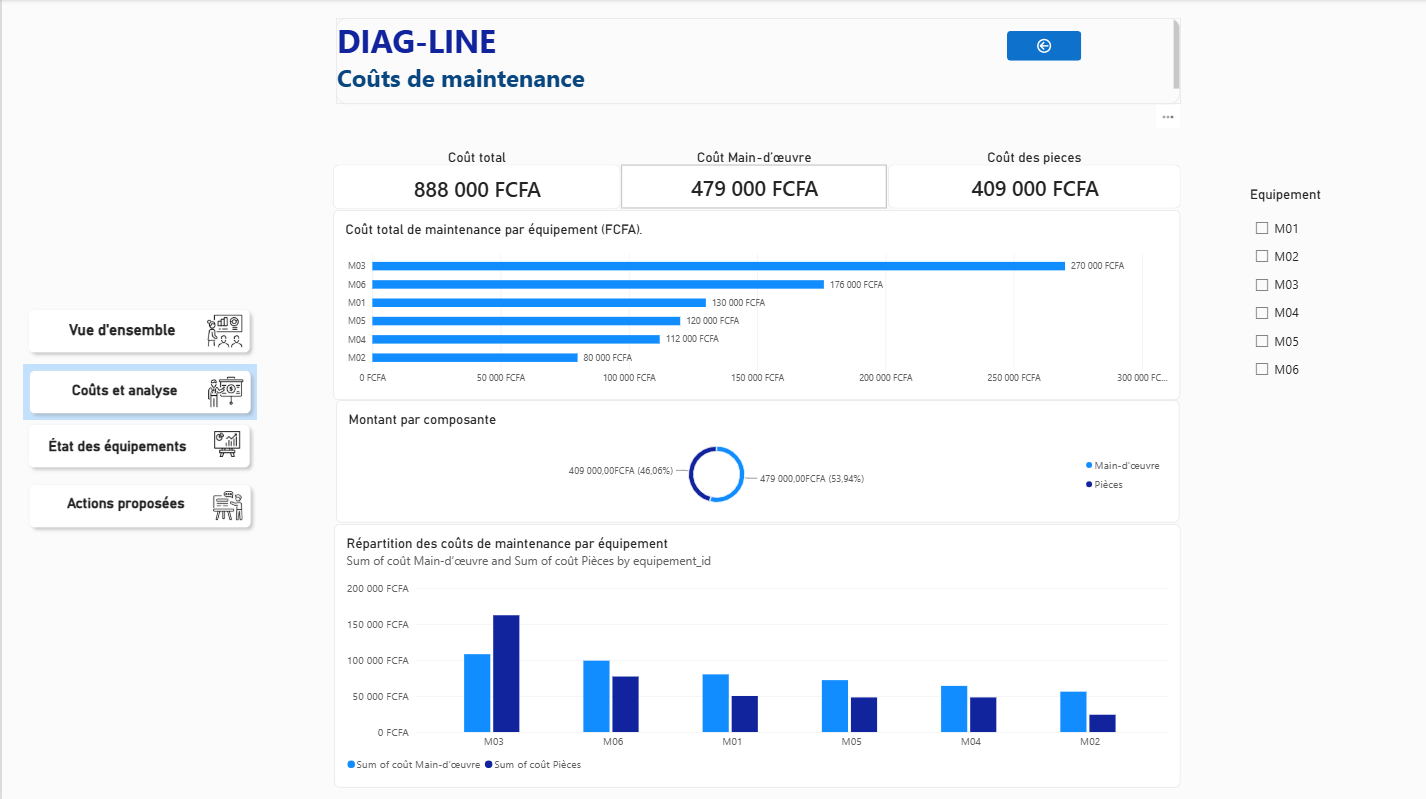

What the dashboard file says about the page in this screenshot:
{"tool":"powerbi","page":{"name":"02 - Coûts et analyse maintenance","canvas":[1920,1080],"ordinal":1},"visuals":[{"type":"textbox","box":[450,25.7,1137.1,115.7],"z":0},{"type":"group","id":"g1","title":"Group 4","box":[26.7,564.4,315.7,75.7],"z":0,"group":"g6"},{"type":"clusteredColumnChart","title":"Répartition des coûts de maintenance par équipement ","fields":{"Category":["maintenance_simulee.equipement_id"],"Y":["Sum(maintenance_simulee.cout_main_oeuvre_fcfa)","Sum(maintenance_simulee.cout_pieces_fcfa)"]},"box":[447,706.3,1139.6,355.1],"z":0,"group":"g3"},{"type":"actionButton","box":[1352.9,42.9,100,40],"z":1000},{"type":"group","id":"g2","title":"Group 1","box":[27,410,315.7,75.7],"z":1000,"group":"g7"},{"type":"actionButton","title":" État des équipements ","box":[56.8,591.4,197.8,26.7],"z":1000,"group":"g6"},{"type":"slicer","title":"Equipement","fields":{"Values":["maintenance_simulee.equipement_id"]},"box":[1680,251.4,100,267.5],"z":2000},{"type":"actionButton","title":"Vue d''ensemble","box":[90,434.4,164.4,25.6],"z":2000,"group":"g7"},{"type":"shape","box":[26.7,564.4,315.7,75.7],"z":2000,"group":"g1"},{"type":"group","id":"g3","title":"Group 1","box":[445.7,201.4,1141.4,860],"z":3000},{"type":"cardVisual","title":"Coût Main-d’œuvre","fields":{"Data":["Sum(maintenance_simulee.cout_main_oeuvre_fcfa)"]},"box":[834.1,201.4,358.8,80],"z":3000,"group":"g3"},{"type":"shape","box":[27,410,315.7,75.7],"z":3000,"group":"g2"},{"type":"shape","box":[27.8,491.1,315.7,75.7],"z":3000,"group":"g8"},{"type":"group","id":"g4","title":"Group 6","box":[27.8,491.1,315.7,75.7],"z":3001},{"type":"group","id":"g5","title":"Group 3","box":[27.8,645.6,315.7,75.7],"z":3002},{"type":"group","id":"g6","title":"Group 5","box":[26.7,564.4,315.6,75.6],"z":3003},{"type":"group","id":"g7","title":"Group 7","box":[27,410,315.7,75.7],"z":3004},{"type":"cardVisual","title":"Coût total","fields":{"Data":["maintenance_simulee.Coût total de maintenance (FCFA)"]},"box":[446.3,201.5,387.8,81.6],"z":5000,"group":"g3"},{"type":"cardVisual","title":"Coût des pieces","fields":{"Data":["Sum(maintenance_simulee.cout_pieces_fcfa)"]},"box":[1192.8,201.4,394.1,80],"z":6000,"group":"g3"},{"type":"clusteredBarChart","title":"Coût total de maintenance par équipement (FCFA).","fields":{"Category":["maintenance_simulee.equipement_id"],"Y":["maintenance_simulee.Coût total de maintenance (FCFA)"]},"box":[445.7,283.9,1141.4,256.4],"z":8000,"group":"g3"},{"type":"donutChart","title":"Montant par composante ","fields":{"Category":["CategoriesCouts.Composante"],"Y":["CategoriesCouts.Montant par composante (FCFA)"]},"box":[449.8,539.8,1136,165.1],"z":9000,"group":"g3"},{"type":"shape","box":[27.8,645.6,315.7,75.7],"z":16000,"group":"g9"},{"type":"group","id":"g8","title":"Group 1","box":[27.8,491.1,315.7,75.7],"z":17000,"group":"g4"},{"type":"image","title":" État des équipements ","box":[277.9,582.5,49.2,35.4],"z":17000,"group":"g1"},{"type":"actionButton","title":"  Coûts et analyse ","box":[93.6,515.4,151.1,23.3],"z":19000,"group":"g4"},{"type":"image","title":"Actions proposées ","box":[275.5,660.3,56.2,45.4],"z":19000,"group":"g9"},{"type":"group","id":"g9","title":"Group 2","box":[27.8,645.6,315.7,75.7],"z":20000,"group":"g5"},{"type":"actionButton","title":"Actions proposées ","box":[86.9,668.3,170,28.9],"z":21000,"group":"g5"},{"type":"image","title":" Vue d''ensemble ","box":[272.1,420.8,55.7,54.3],"z":22000,"group":"g2"},{"type":"image","title":" Vue d''ensemble ","box":[272.9,501.9,55.7,54.3],"z":22000,"group":"g8"}]}

Visuals, with their boxes on the page's 1920x1080 design canvas (x1, y1, x2, y2). These are canvas units, not pixel positions in the 1426x799 screenshot, which may show the page scaled, cropped or inside an application window:
textbox: 450:26:1587:141
"Group 4" group: 27:564:342:640
"Répartition des coûts de maintenance par équipement " clusteredColumnChart: 447:706:1587:1061
actionButton: 1353:43:1453:83
"Group 1" group: 27:410:343:486
" État des équipements " actionButton: 57:591:255:618
"Equipement" slicer: 1680:251:1780:519
"Vue d''ensemble" actionButton: 90:434:254:460
shape: 27:564:342:640
"Group 1" group: 446:201:1587:1061
"Coût Main-d’œuvre" cardVisual: 834:201:1193:281
shape: 27:410:343:486
shape: 28:491:344:567
"Group 6" group: 28:491:344:567
"Group 3" group: 28:646:344:721
"Group 5" group: 27:564:342:640
"Group 7" group: 27:410:343:486
"Coût total" cardVisual: 446:202:834:283
"Coût des pieces" cardVisual: 1193:201:1587:281
"Coût total de maintenance par équipement (FCFA)." clusteredBarChart: 446:284:1587:540
"Montant par composante " donutChart: 450:540:1586:705
shape: 28:646:344:721
"Group 1" group: 28:491:344:567
" État des équipements " image: 278:582:327:618
"  Coûts et analyse " actionButton: 94:515:245:539
"Actions proposées " image: 276:660:332:706
"Group 2" group: 28:646:344:721
"Actions proposées " actionButton: 87:668:257:697
" Vue d''ensemble " image: 272:421:328:475
" Vue d''ensemble " image: 273:502:329:556
